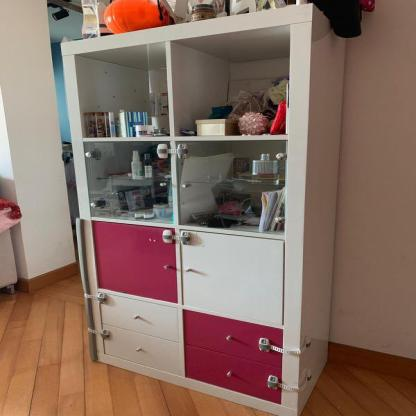lamp: (58, 2, 348, 416)
